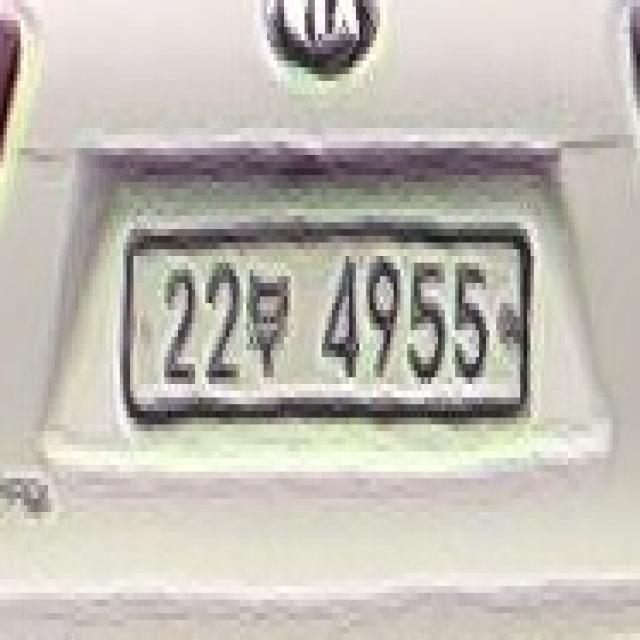plat: (121, 223, 533, 422)
